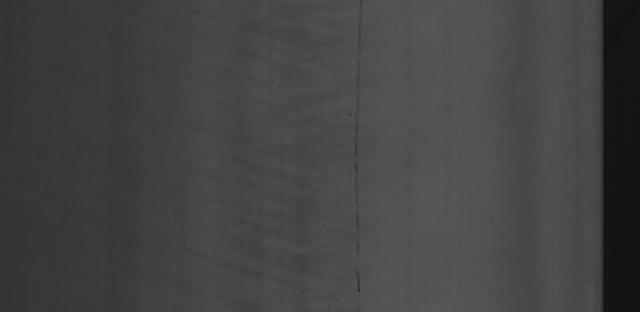inclusion: (337, 13, 379, 304)
water_spot: (223, 29, 320, 289)
